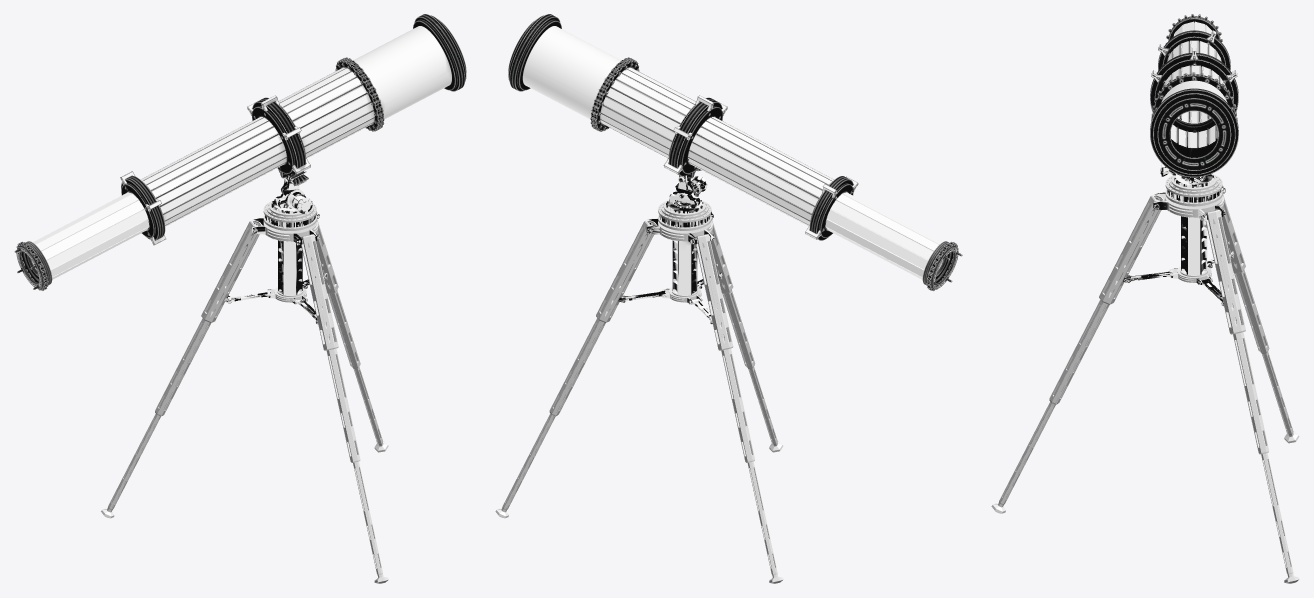
File: telescope-transformed.glb
The picture shows the model from 3 angles, left to right: view 1: azimuth 30°, elevation 25°; view 2: azimuth 150°, elevation 25°; view 3: azimuth 270°, elevation 25°; orthographic projection. The views are drawn at different scales.
Parts seen in each view (by area): view 1: 18.004, 36.002, 32.002, 10.004, 3.014, 3.012, 4.012, 2.007, 2.008, 1.007, 2.009, 1.009 (+4 smaller); view 2: 18.004, 36.002, 32.002, 10.004, 3.012, 3.010, 4.012, 2.008, 2.009, 1.009, 2.007, 1.008 (+4 smaller); view 3: 44.002, 3.010, 3.014, 32.002, 4.012, 2.009, 2.007, 43.002, 1.008, 24.002, 42.002, 2.008 (+9 smaller).
Part boxes in pixels (bbox=[...]): 18.004: bbox=[140, 117, 286, 226]; 36.002: bbox=[353, 26, 451, 119]; 32.002: bbox=[278, 67, 374, 158]; 10.004: bbox=[32, 192, 149, 279]; 3.014: bbox=[300, 234, 338, 352]; 3.012: bbox=[201, 219, 262, 323]; 4.012: bbox=[278, 240, 302, 295]; 2.007: bbox=[326, 348, 360, 464]; 2.008: bbox=[155, 318, 211, 417]; 1.007: bbox=[353, 461, 388, 583]; 2.009: bbox=[328, 290, 360, 369]; 1.009: bbox=[101, 413, 160, 518]; 18.004: bbox=[688, 117, 834, 226]; 36.002: bbox=[522, 26, 620, 118]; 32.002: bbox=[600, 67, 701, 157]; 10.004: bbox=[825, 192, 942, 279]; 3.012: bbox=[695, 234, 733, 351]; 3.010: bbox=[596, 219, 657, 323]; 4.012: bbox=[672, 240, 697, 294]; 2.008: bbox=[721, 348, 755, 464]; 2.009: bbox=[549, 318, 605, 417]; 1.009: bbox=[747, 461, 783, 583]; 2.007: bbox=[722, 290, 755, 369]; 1.008: bbox=[495, 413, 555, 518]; 44.002: bbox=[1157, 98, 1231, 170]; 3.010: bbox=[1205, 210, 1245, 335]; 3.014: bbox=[1099, 194, 1164, 305]; 32.002: bbox=[1162, 65, 1226, 157]; 4.012: bbox=[1181, 216, 1207, 274]; 2.009: bbox=[1233, 332, 1269, 456]; 2.007: bbox=[1049, 300, 1109, 405]; 43.002: bbox=[1153, 93, 1235, 174]; 1.008: bbox=[1261, 453, 1299, 583]; 24.002: bbox=[1154, 59, 1233, 132]; 42.002: bbox=[1150, 89, 1238, 177]; 2.008: bbox=[1234, 269, 1269, 354].
Size of the model in its own units: 0.5843 by 0.5964 by 0.3347.
4 materials, 2 textured.
